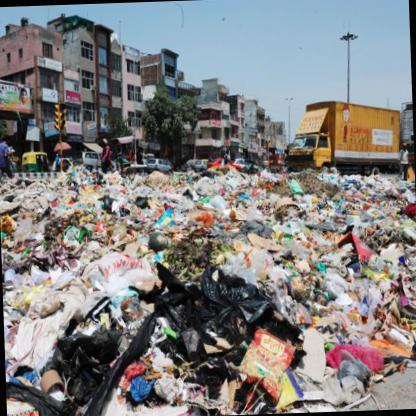Garbage: (8, 255, 384, 415), (146, 205, 415, 378), (182, 165, 415, 354), (0, 173, 183, 333), (179, 172, 369, 326)
